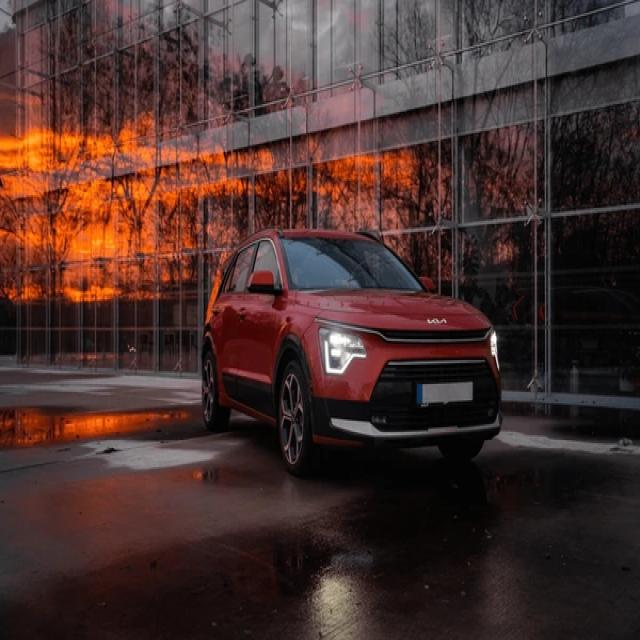kia: (426, 314, 449, 328)
